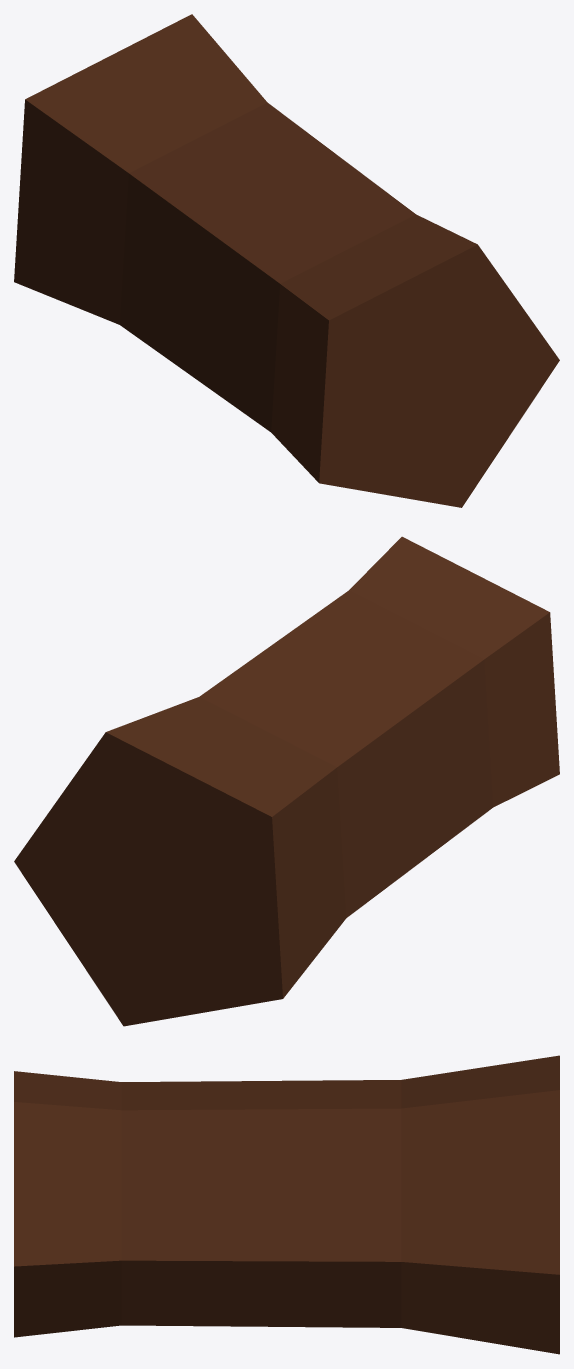
File: wood_01.fbx
The picture shows the model from 3 angles, top to bottom: view 1: azimuth 30°, elevation 25°; view 2: azimuth 150°, elevation 25°; view 3: azimuth 270°, elevation 25°; orthographic projection. The views are drawn at different scales.
Visible parts, largest first — view 1: Cylinder; view 2: Cylinder; view 3: Cylinder.
Part boxes in pixels (bbox=[...]): Cylinder: bbox=[14, 14, 559, 507]; Cylinder: bbox=[14, 536, 559, 1026]; Cylinder: bbox=[14, 1055, 559, 1354].
Size of the model in its own units: 184 by 190 by 344.
